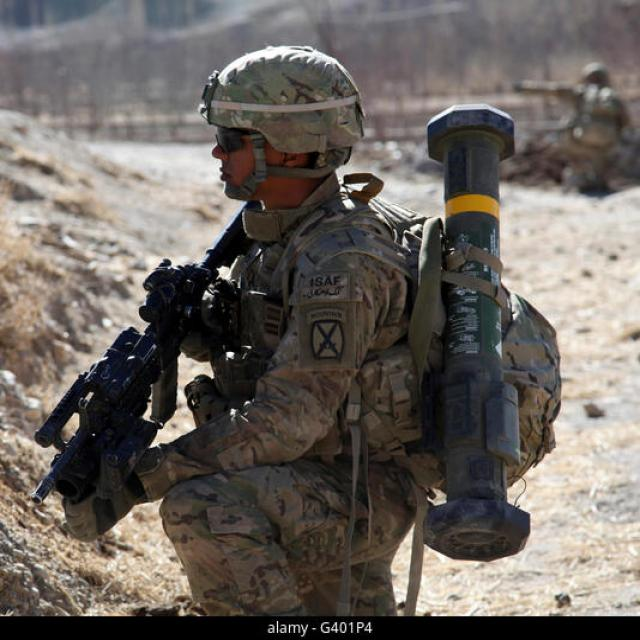bazooka: (9, 167, 396, 580), (394, 77, 567, 581)
